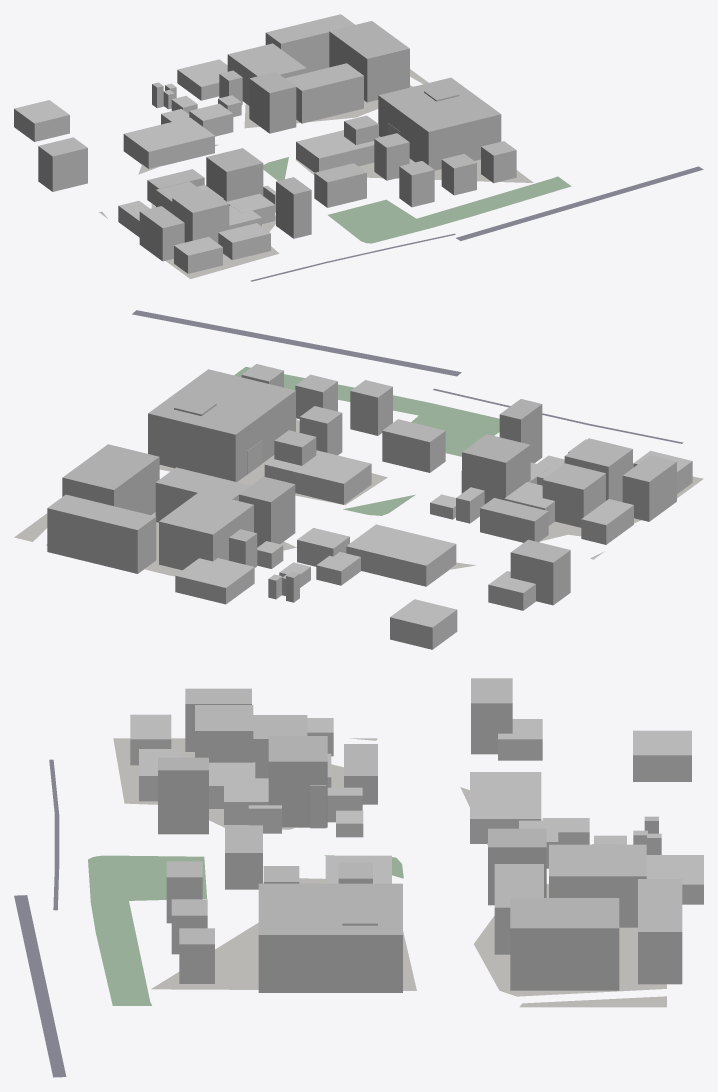
The model's file is 117_115_mid.glb.
The picture shows the model from 3 angles, top to bottom: view 1: azimuth 30°, elevation 25°; view 2: azimuth 150°, elevation 25°; view 3: azimuth 270°, elevation 25°; orthographic projection. The views are drawn at different scales.
Bounding box in the file's own units: 664 × 58.76 × 545.
